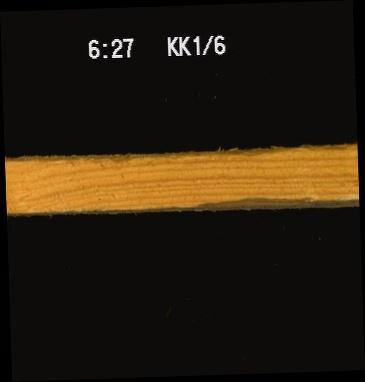wave: (181, 192, 343, 207)
